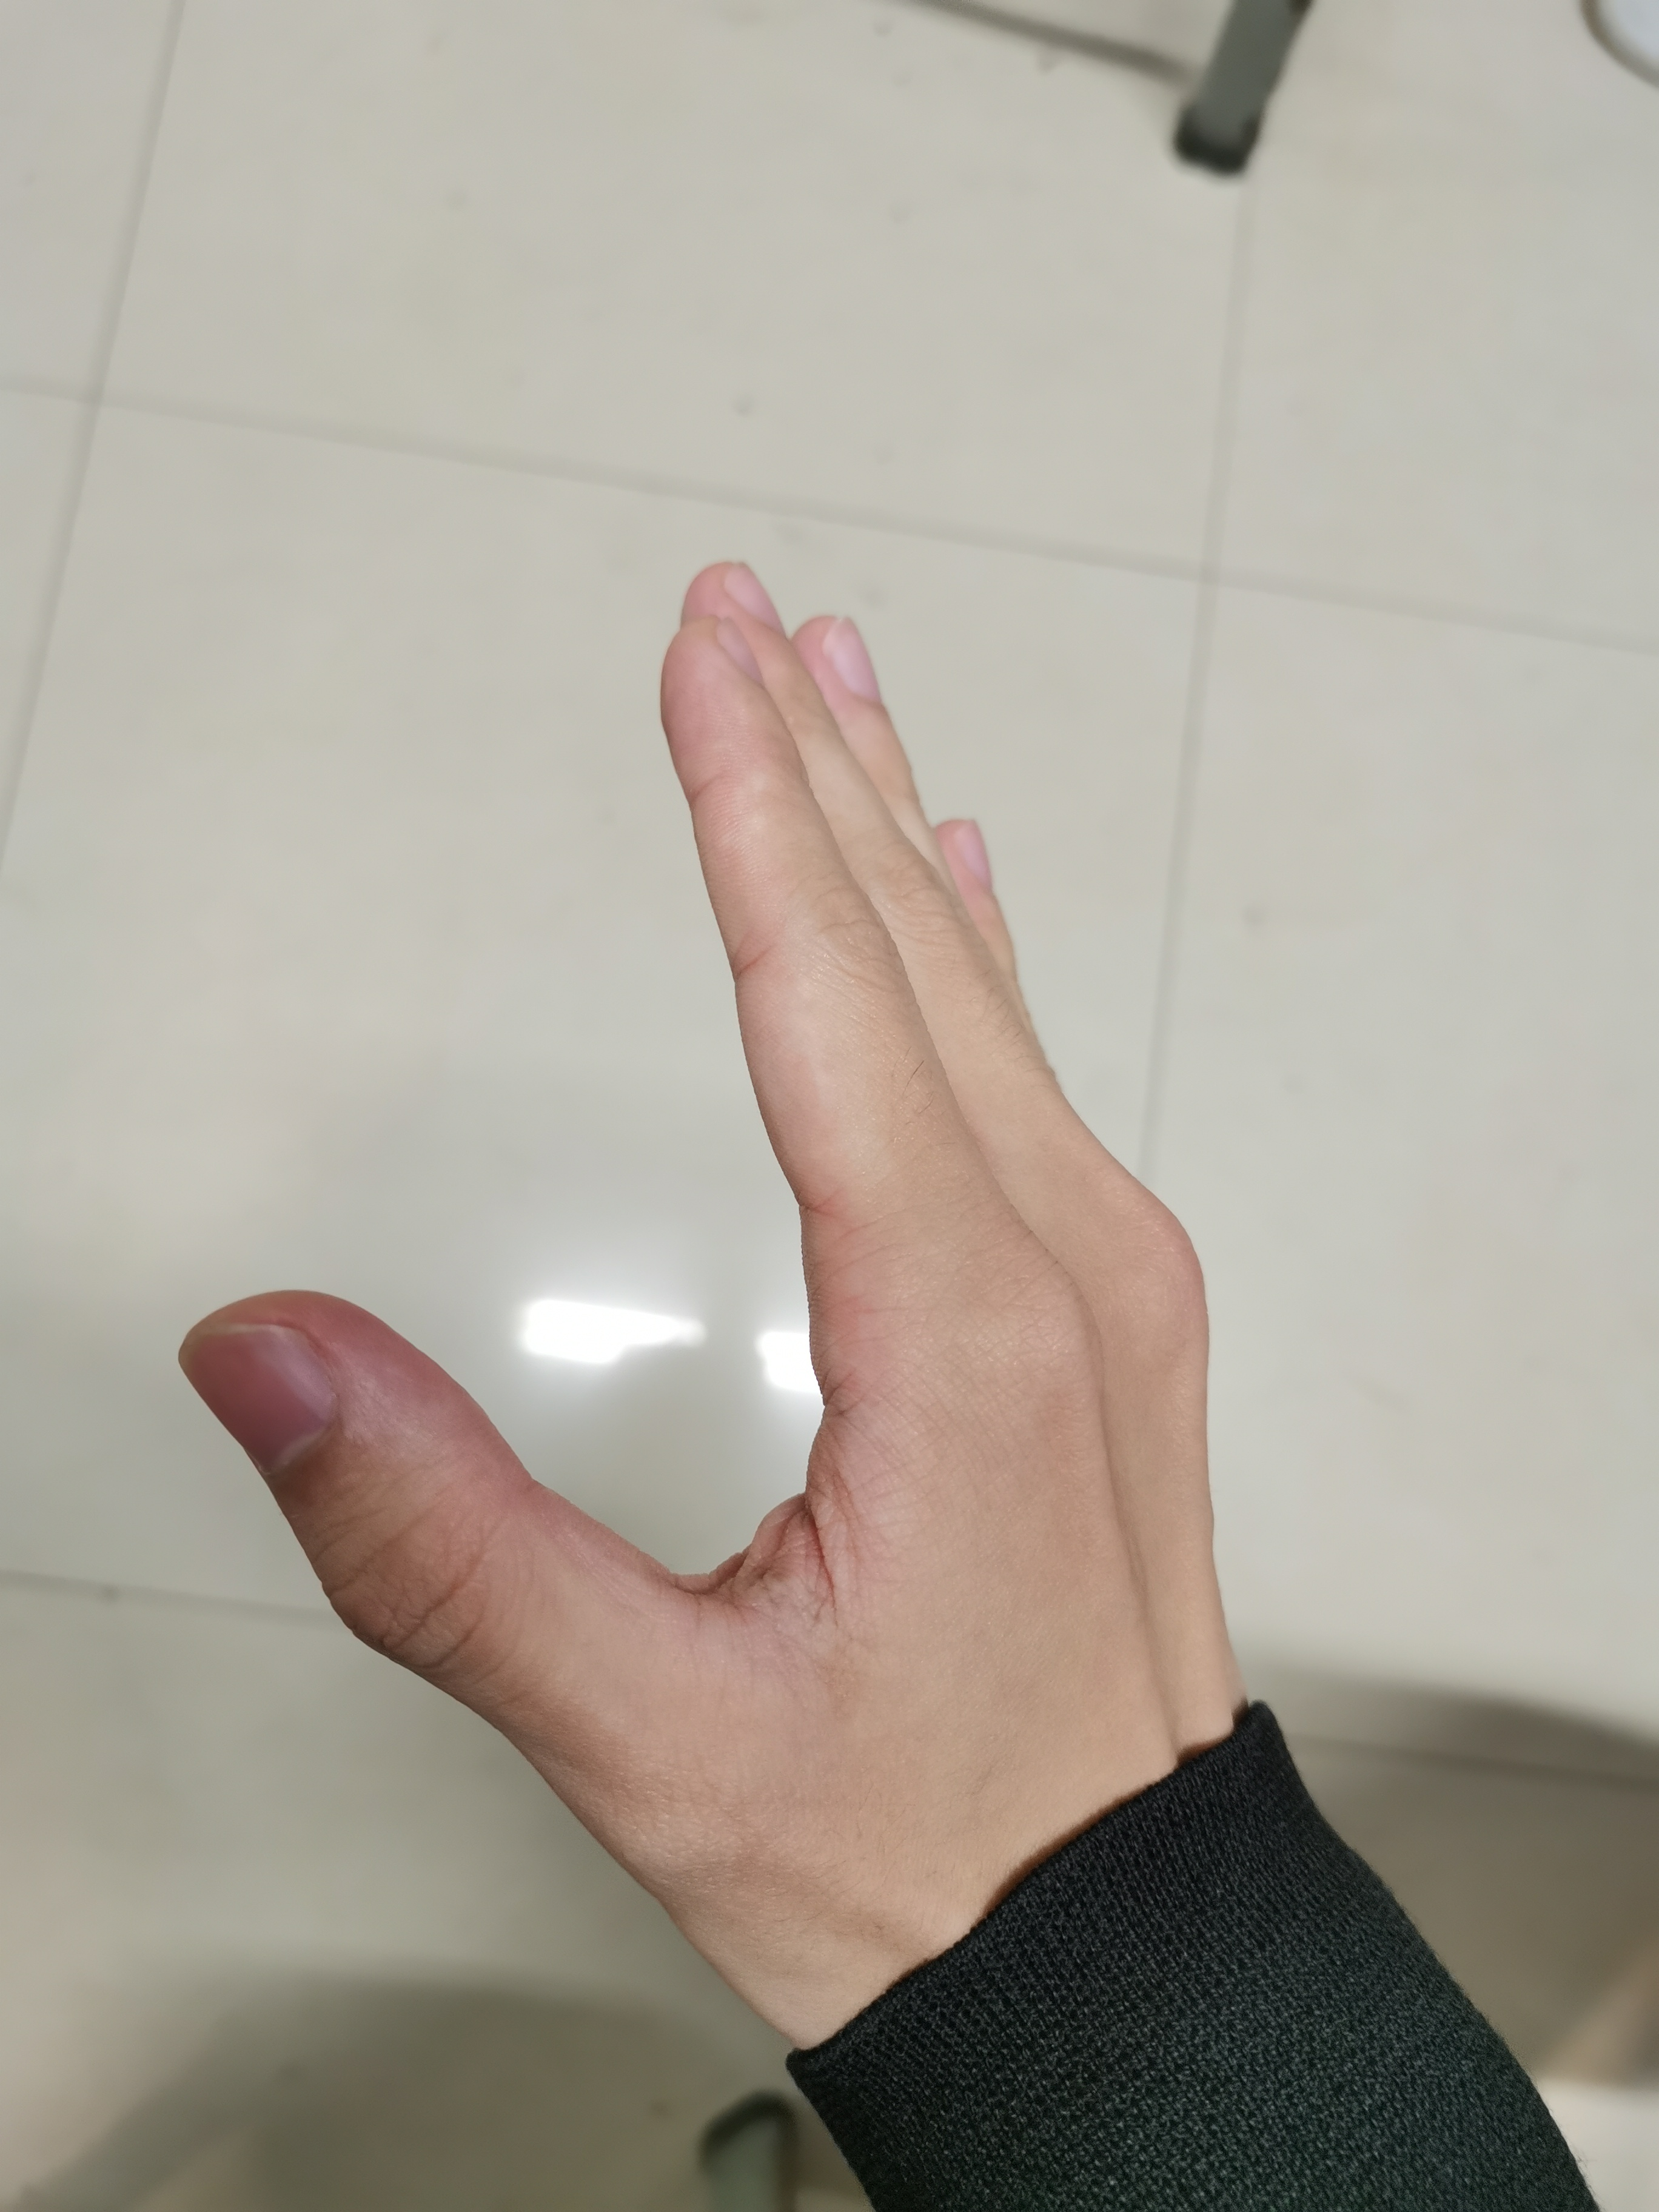no-phone: (152, 514, 1314, 2003)
